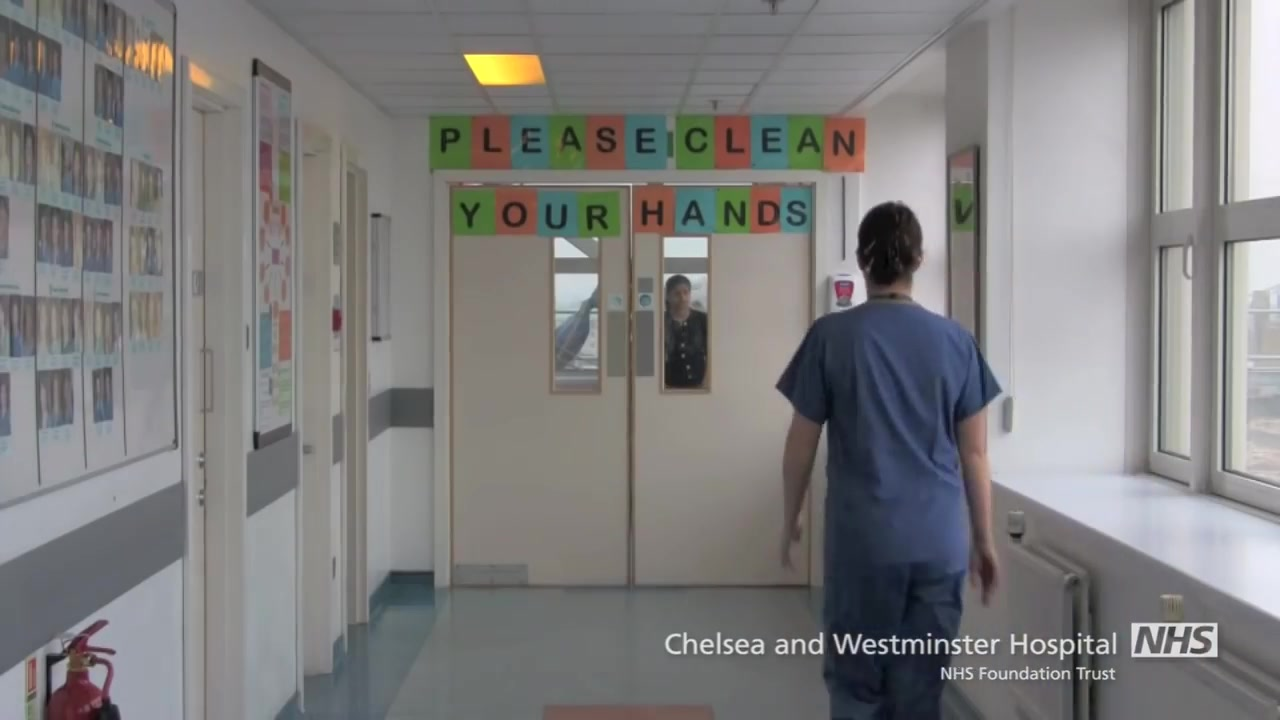dispenser: (830, 271, 857, 351)
door_handle: (201, 348, 218, 414)
handle: (1181, 232, 1199, 280)
person: (665, 274, 708, 386)
staff: (775, 199, 1003, 720)
